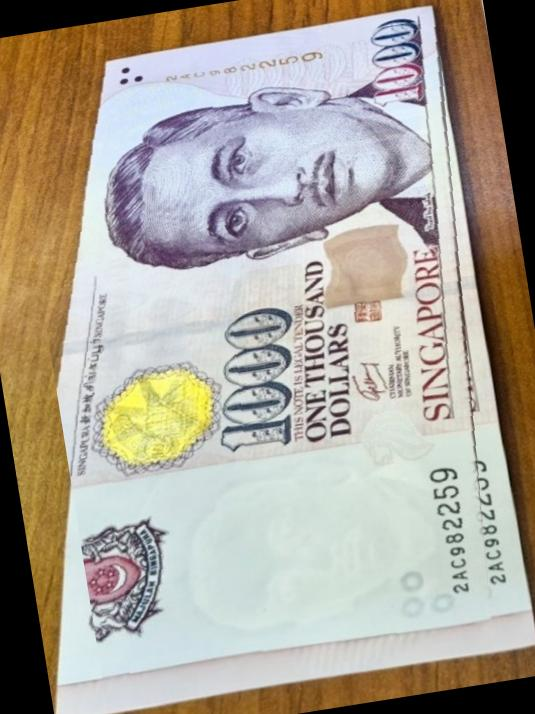1000SingaporeDollar: (7, 15, 535, 710)
